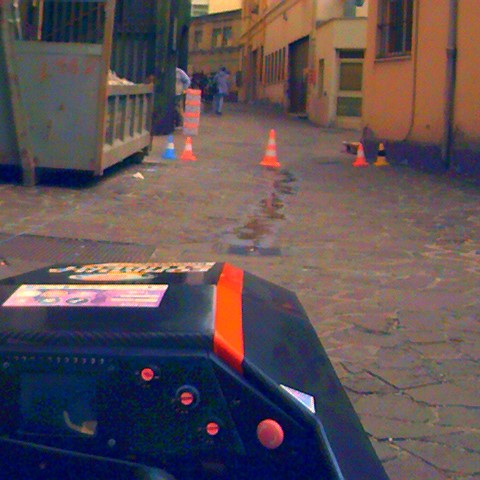cone: (163, 134, 179, 160)
